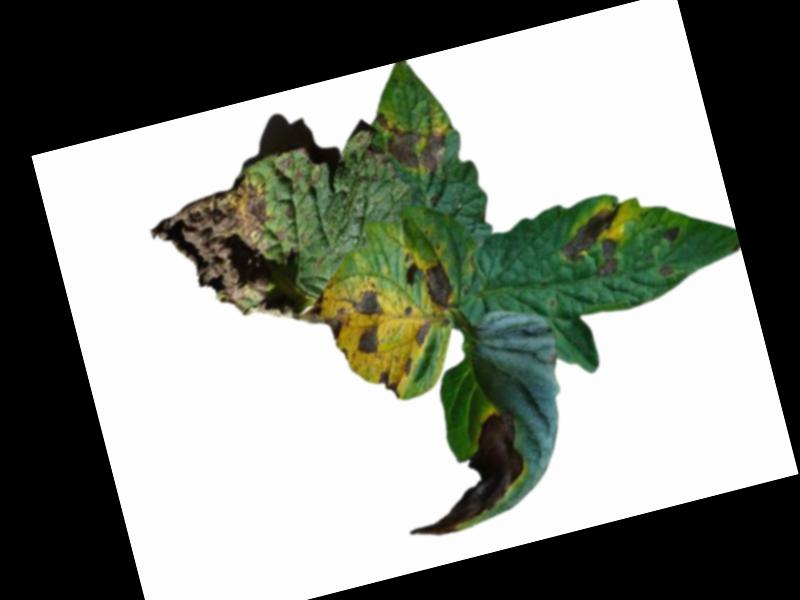Early_blight: (143, 169, 304, 345), (386, 409, 538, 543), (371, 94, 453, 186), (553, 203, 636, 287), (288, 284, 354, 351), (417, 259, 459, 317), (347, 281, 386, 322), (354, 126, 385, 175), (352, 323, 384, 358), (374, 367, 403, 404), (409, 322, 437, 348), (272, 154, 296, 177), (662, 225, 683, 246), (656, 264, 674, 278), (402, 359, 415, 378)
